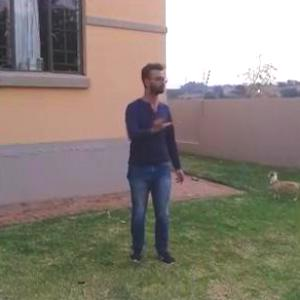land_hand: (146, 104, 174, 138)
